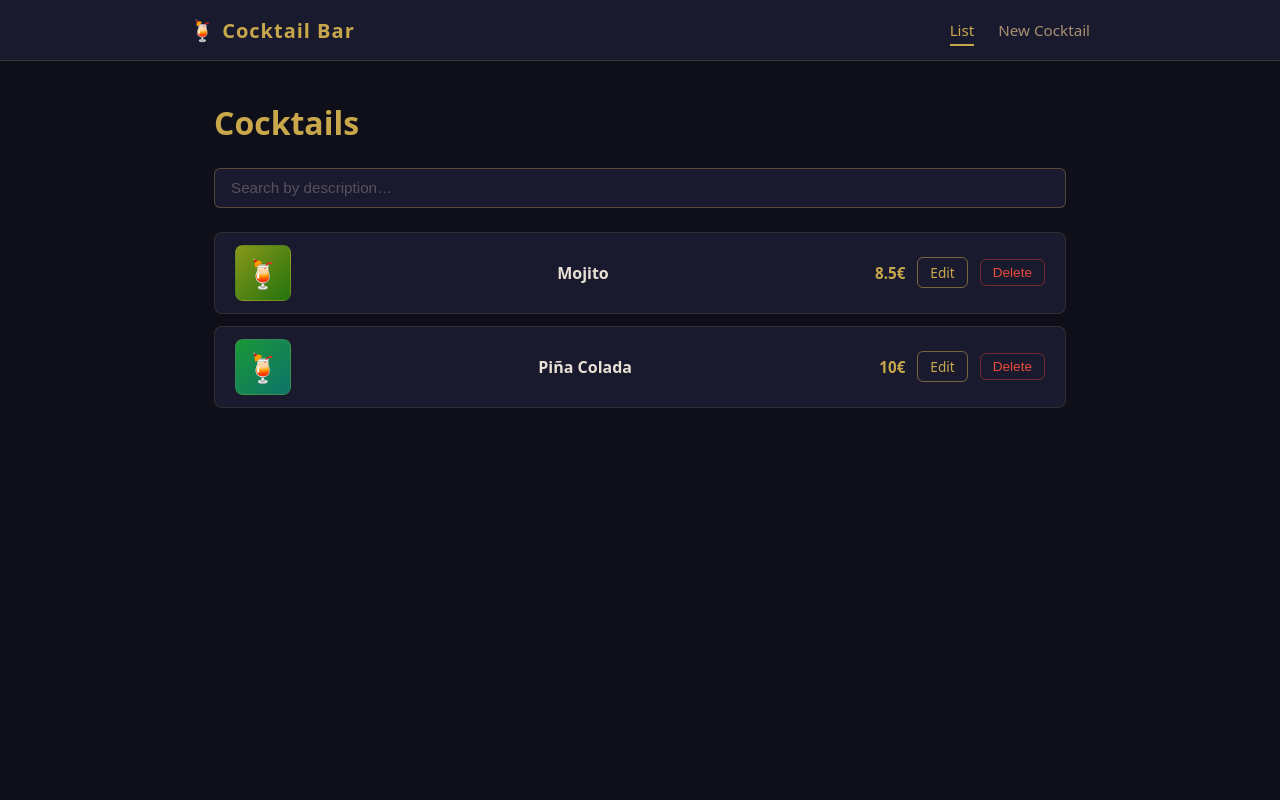
Scenario: Cocktail Details page › should display the cocktail title, description, and price
Step 1. Click the link with class "cocktail-card" showing "🍹 Mojito 8.5€ Edit Delete" → (263,273), box [214, 232, 1066, 314]
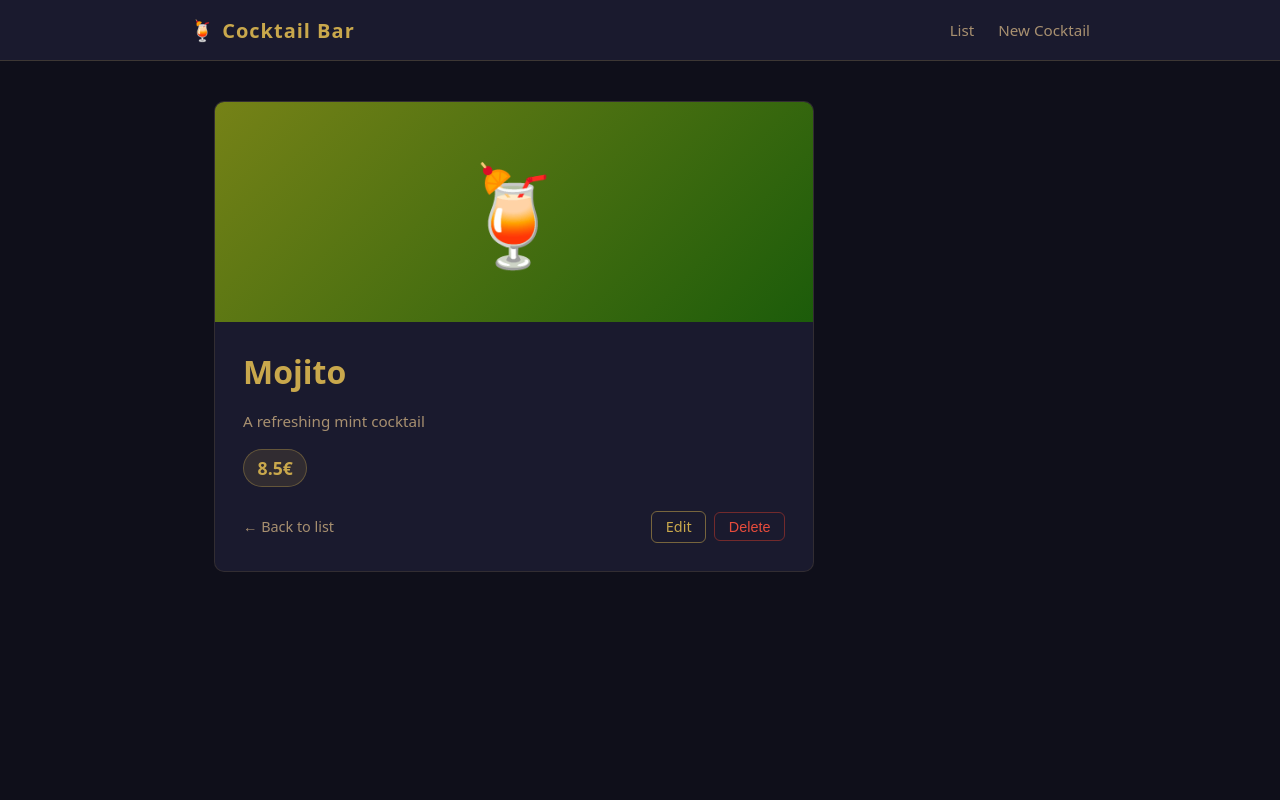
Check: the text "8.5€" is shown, box [243, 449, 307, 486]
Check: the heading "Mojito" is shown, box [243, 350, 346, 393]
Check: the text with class "description" shows "refreshing mint cocktail", box [243, 411, 425, 431]
